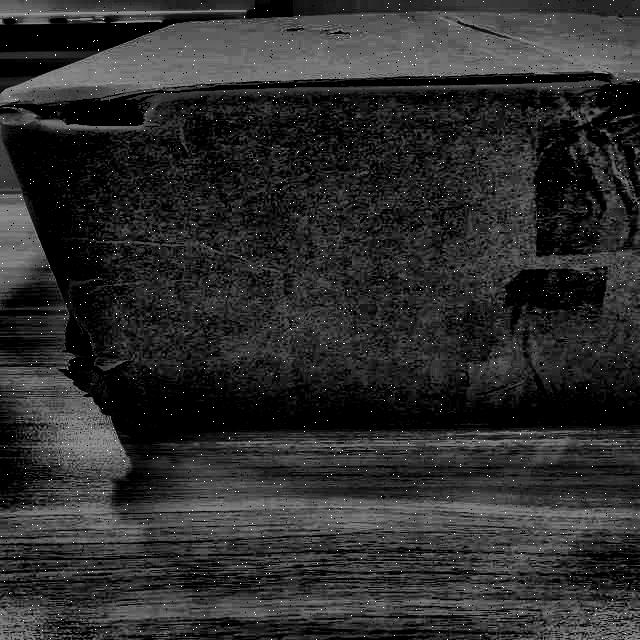box: (1, 11, 639, 444)
hole: (10, 86, 175, 145), (55, 313, 135, 387)
